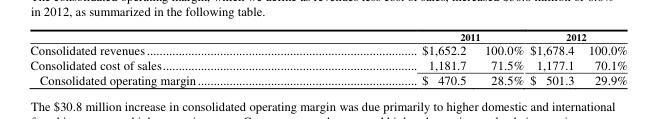table: (29, 29, 626, 87)
table column: (29, 29, 308, 87), (308, 29, 474, 87), (526, 29, 580, 87), (474, 29, 526, 87), (580, 29, 626, 87)
table column header: (29, 29, 626, 56)
table row: (29, 71, 626, 87), (29, 56, 626, 71), (29, 42, 626, 56), (29, 29, 626, 42)
table spanning cell: (29, 29, 308, 56), (308, 29, 526, 42), (526, 29, 626, 42)
